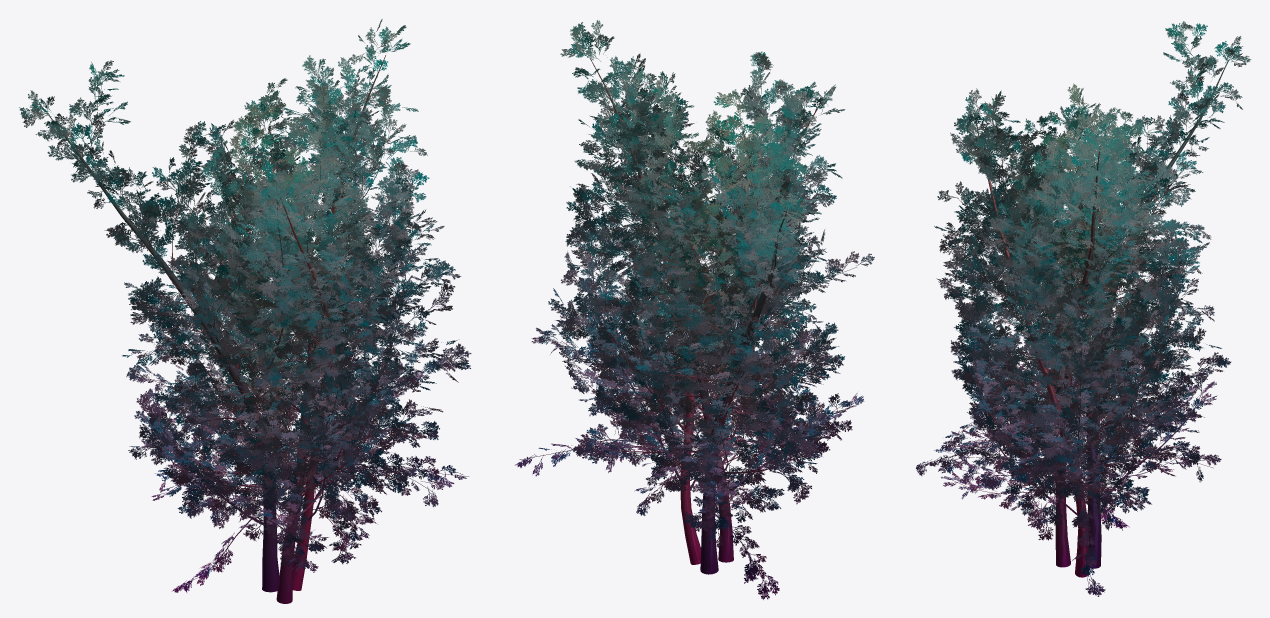
Rendered from asset.glb.
3 views of the same model, side by side, from view 1: azimuth 30°, elevation 25°; view 2: azimuth 150°, elevation 25°; view 3: azimuth 270°, elevation 25° (orthographic). The views are drawn at different scales.
Visible parts, largest first — view 1: rocky_mountain_juniper_LOD0; view 2: rocky_mountain_juniper_LOD0; view 3: rocky_mountain_juniper_LOD0.
Boxes of the visible parts, bbox=[...] form: rocky_mountain_juniper_LOD0: bbox=[19, 19, 471, 603]; rocky_mountain_juniper_LOD0: bbox=[515, 20, 874, 599]; rocky_mountain_juniper_LOD0: bbox=[916, 21, 1251, 596].
Size of the model in its own units: 5.29 by 7.15 by 4.32.
Materials: 2 (2 with a texture image).
